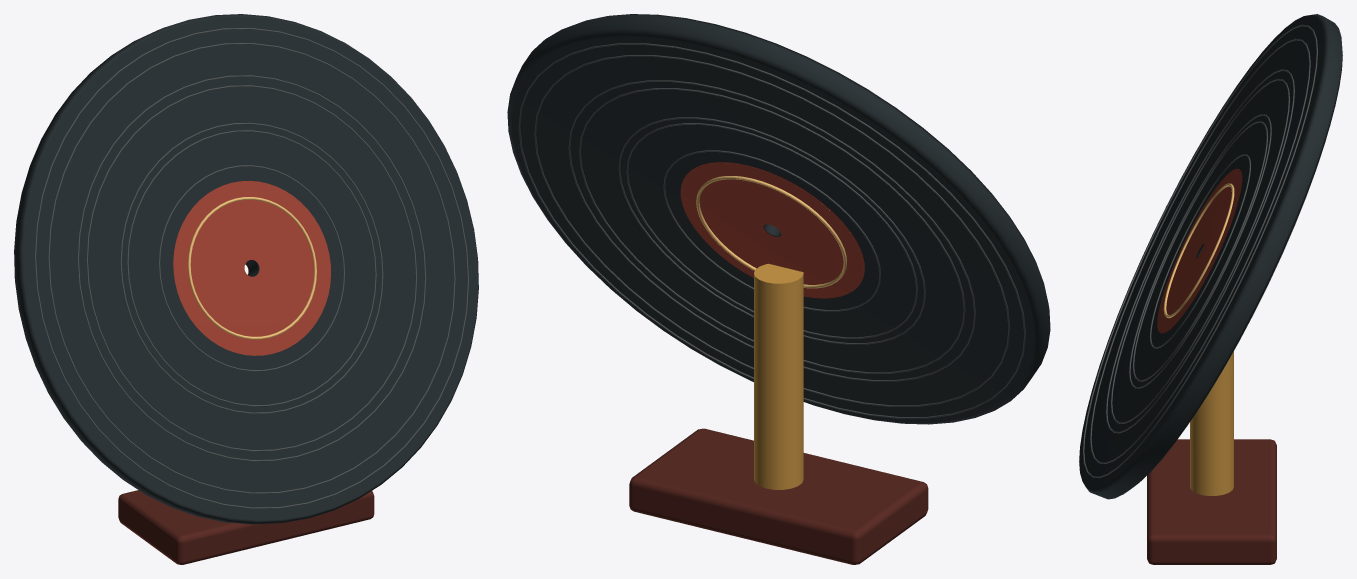
The model's file is record.glb.
3 views of the same model, side by side, from view 1: azimuth 30°, elevation 25°; view 2: azimuth 150°, elevation 25°; view 3: azimuth 270°, elevation 25° (orthographic). The views are drawn at different scales.
Parts seen in each view (by area): view 1: Tilted 78; view 2: Tilted 78; view 3: Tilted 78.
Boxes of the visible parts, x1,y1,x2,y2 form: Tilted 78: [14, 14, 478, 564]; Tilted 78: [507, 14, 1050, 564]; Tilted 78: [1079, 14, 1342, 564].
Size of the model in its own units: 2.04 by 2.02 by 1.01.
